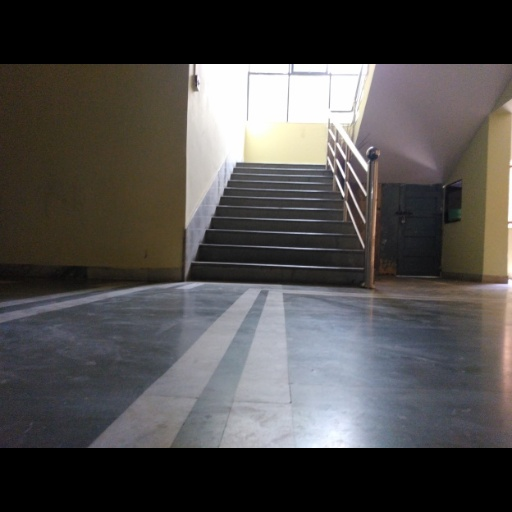Stairs: (190, 163, 364, 285)
